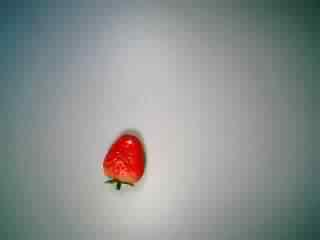strawberry: (94, 127, 160, 193)
